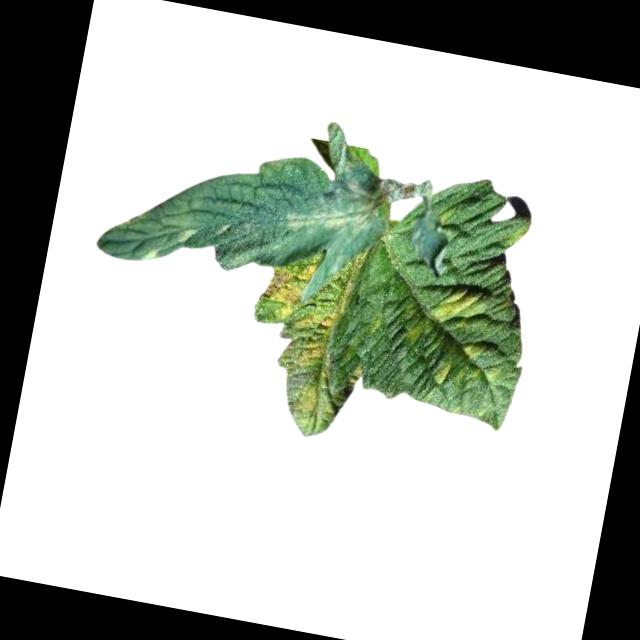Leaf_Mold: (285, 159, 392, 249), (283, 299, 342, 434), (259, 252, 320, 324), (427, 285, 485, 333), (462, 343, 489, 365)
